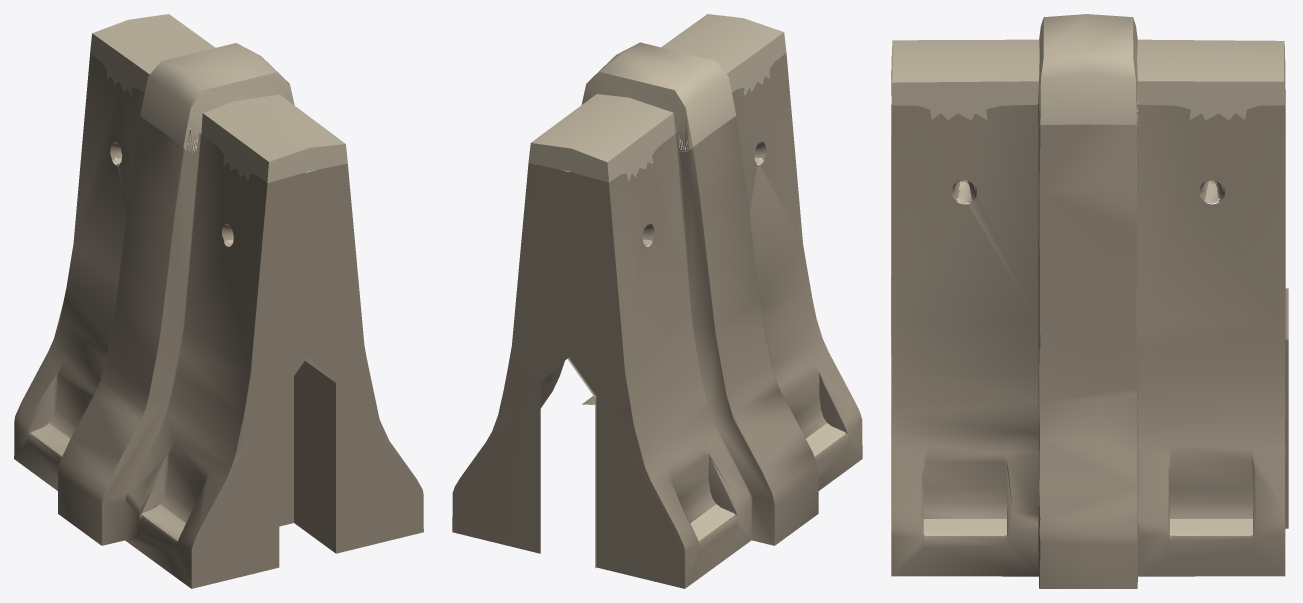
The model's file is stone-wall-ns.glb.
3 renders of one model, left to right at view 1: azimuth 30°, elevation 25°; view 2: azimuth 150°, elevation 25°; view 3: azimuth 270°, elevation 25°, orthographic. The views are drawn at different scales.
Visible parts, largest first — view 1: body; view 2: body; view 3: body.
Part boxes in pixels (left/top/right/bottom): body: left=14, top=14, right=423, bottom=588; body: left=452, top=14, right=862, bottom=588; body: left=891, top=14, right=1288, bottom=588.
Size of the model in its own units: 0.8916 by 1.33 by 0.9921.
